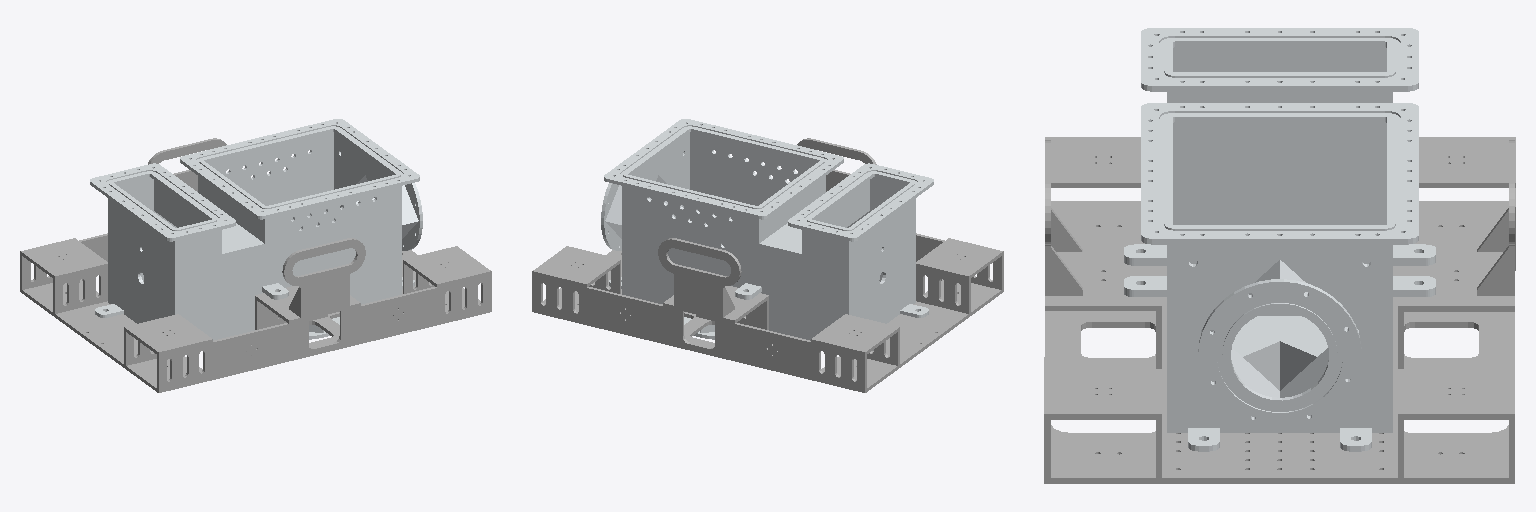
URDF robot description (Sauvc 25):
<?xml version="1.0" encoding="utf-8"?>
<!-- This URDF was automatically created by SolidWorks to URDF Exporter! Originally created by [author] ([email redacted]) 
     Commit Version: 1.6.0-4-g7f85cfe  Build Version: 1.6.7995.38578
     For more information, please see http://wiki.ros.org/sw_urdf_exporter -->
<robot
  name="Sauvc 25">
  <link
    name="chassis_link">
    <inertial>
      <origin
        xyz="0.096007 0.10167 0.10982"
        rpy="0 0 0" />
      <mass
        value="6.0362" />
      <inertia
        ixx="0.04236"
        ixy="-2.5021E-09"
        ixz="-1.3686E-05"
        iyy="0.18568"
        iyz="1.879E-05"
        izz="0.14514" />
    </inertial>
    <visual>
      <origin
        xyz="0 0 0"
        rpy="0 0 0" />
      <geometry>
        <mesh
          filename="package://ags_description/meshes/chassis_link.STL" />
      </geometry>
      <material
        name="">
        <color
          rgba="0.75294 0.75294 0.75294 1" />
      </material>
    </visual>
    <collision>
      <origin
        xyz="0 0 0"
        rpy="0 0 0" />
      <geometry>
        <mesh
          filename="package://ags_description/meshes/chassis_link.STL" />
      </geometry>
    </collision>
  </link>
  <link
    name="hull_link">
    <inertial>
      <origin
        xyz="0.0075921 0.089964 1.0578E-05"
        rpy="0 0 0" />
      <mass
        value="15" />
      <inertia
        ixx="0.03422"
        ixy="-0.0010072"
        ixz="2.3337E-05"
        iyy="0.085969"
        iyz="-2.3338E-05"
        izz="0.077582" />
    </inertial>
    <visual>
      <origin
        xyz="0 0 0"
        rpy="0 0 0" />
      <geometry>
        <mesh
          filename="package://ags_description/meshes/hull_link.STL" />
      </geometry>
      <material
        name="">
        <color
          rgba="0.89804 0.91765 0.92941 1" />
      </material>
    </visual>
    <collision>
      <origin
        xyz="0 0 0"
        rpy="0 0 0" />
      <geometry>
        <mesh
          filename="package://ags_description/meshes/hull_link.STL" />
      </geometry>
    </collision>
  </link>
  <joint
    name="hull_joint"
    type="fixed">
    <origin
      xyz="0.095605167680179 -0.114810636913522 0.0727763991682185"
      rpy="1.5707963267949 0 0" />
    <parent
      link="chassis_link" />
    <child
      link="hull_link" />
    <axis
      xyz="0 0 0" />
  </joint>
  <link
    name="t1_link">
    <inertial>
      <origin
        xyz="-4.1153E-07 -0.00055898 -0.0039322"
        rpy="0 0 0" />
      <mass
        value="0.226" />
      <inertia
        ixx="0.00013148"
        ixy="1.6857E-09"
        ixz="-1.9632E-09"
        iyy="0.00012745"
        iyz="-1.4772E-07"
        izz="0.00018193" />
    </inertial>
    <visual>
      <origin
        xyz="0 0 0"
        rpy="0 0 0" />
      <geometry>
        <mesh
          filename="package://ags_description/meshes/t1_link.STL" />
      </geometry>
      <material
        name="">
        <color
          rgba="0.95686 0.95686 0.95686 1" />
      </material>
    </visual>
    <collision>
      <origin
        xyz="0 0 0"
        rpy="0 0 0" />
      <geometry>
        <mesh
          filename="package://ags_description/meshes/t1_link.STL" />
      </geometry>
    </collision>
  </link>
  <joint
    name="t1_joint"
    type="fixed">
    <origin
      xyz="0.349878584893384 0.0539678164692632 0.187776399168219"
      rpy="1.5707963267949 0 0.785531324064394" />
    <parent
      link="chassis_link" />
    <child
      link="t1_link" />
    <axis
      xyz="0 0 0" />
  </joint>
  <link
    name="t2_link">
    <inertial>
      <origin
        xyz="-4.1146E-07 -0.00055898 -0.0039322"
        rpy="0 0 0" />
      <mass
        value="0.226" />
      <inertia
        ixx="0.00013149"
        ixy="1.6856E-09"
        ixz="-1.9616E-09"
        iyy="0.00012745"
        iyz="-1.4772E-07"
        izz="0.00018193" />
    </inertial>
    <visual>
      <origin
        xyz="0 0 0"
        rpy="0 0 0" />
      <geometry>
        <mesh
          filename="package://ags_description/meshes/t2_link.STL" />
      </geometry>
      <material
        name="">
        <color
          rgba="0.95686 0.95686 0.95686 1" />
      </material>
    </visual>
    <collision>
      <origin
        xyz="0 0 0"
        rpy="0 0 0" />
      <geometry>
        <mesh
          filename="package://ags_description/meshes/t2_link.STL" />
      </geometry>
    </collision>
  </link>
  <joint
    name="t2_joint"
    type="fixed">
    <origin
      xyz="0.349878584893391 -0.283589090296312 0.187776399168219"
      rpy="1.5707963267949 0 2.3560613295254" />
    <parent
      link="chassis_link" />
    <child
      link="t2_link" />
    <axis
      xyz="0 0 0" />
  </joint>
  <link
    name="t3_link">
    <inertial>
      <origin
        xyz="-4.1146E-07 -0.00055898 -0.0039322"
        rpy="0 0 0" />
      <mass
        value="0.226" />
      <inertia
        ixx="0.00013148"
        ixy="1.6857E-09"
        ixz="-1.9652E-09"
        iyy="0.00012745"
        iyz="-1.4772E-07"
        izz="0.00018193" />
    </inertial>
    <visual>
      <origin
        xyz="0 0 0"
        rpy="0 0 0" />
      <geometry>
        <mesh
          filename="package://ags_description/meshes/t3_link.STL" />
      </geometry>
      <material
        name="">
        <color
          rgba="0.95686 0.95686 0.95686 1" />
      </material>
    </visual>
    <collision>
      <origin
        xyz="0 0 0"
        rpy="0 0 0" />
      <geometry>
        <mesh
          filename="package://ags_description/meshes/t3_link.STL" />
      </geometry>
    </collision>
  </link>
  <joint
    name="t3_joint"
    type="fixed">
    <origin
      xyz="-0.154694276907376 -0.283521901037111 0.187776399168219"
      rpy="1.5707963267949 0 -2.35632765085928" />
    <parent
      link="chassis_link" />
    <child
      link="t3_link" />
    <axis
      xyz="0 0 0" />
  </joint>
  <link
    name="t4_link">
    <inertial>
      <origin
        xyz="-4.1151E-07 -0.00055898 -0.0039322"
        rpy="0 0 0" />
      <mass
        value="0.226" />
      <inertia
        ixx="0.00013148"
        ixy="1.6856E-09"
        ixz="-1.9659E-09"
        iyy="0.00012745"
        iyz="-1.4772E-07"
        izz="0.00018193" />
    </inertial>
    <visual>
      <origin
        xyz="0 0 0"
        rpy="0 0 0" />
      <geometry>
        <mesh
          filename="package://ags_description/meshes/t4_link.STL" />
      </geometry>
      <material
        name="">
        <color
          rgba="0.95686 0.95686 0.95686 1" />
      </material>
    </visual>
    <collision>
      <origin
        xyz="0 0 0"
        rpy="0 0 0" />
      <geometry>
        <mesh
          filename="package://ags_description/meshes/t4_link.STL" />
      </geometry>
    </collision>
  </link>
  <joint
    name="t4_joint"
    type="fixed">
    <origin
      xyz="-0.154604378302771 0.0540349937575058 0.187776399168219"
      rpy="1.5707963267949 0 -0.785797645398278" />
    <parent
      link="chassis_link" />
    <child
      link="t4_link" />
    <axis
      xyz="0 0 0" />
  </joint>
  <link name="t5_link">
    <inertial>
      <origin xyz="-4.0893E-07 -0.00055898 -0.0039314" rpy="0 0 0" />
      <mass value="0.226" />
      <inertia
        ixx="0.00013148"
        ixy="1.9698E-09"
        ixz="-1.9744E-09"
        iyy="0.00012745"
        iyz="-1.4787E-07"
        izz="0.00018192" />
    </inertial>
    <visual>
      <origin xyz="0 0 0" rpy="0 0 0" />
      <geometry>
        <mesh filename="package://ags_description/meshes/t5_link.STL" />
      </geometry>
      <material name="">
        <color rgba="0.95686 0.95686 0.95686 1" />
      </material>
    </visual>
    <collision>
      <origin
        xyz="0 0 0"
        rpy="0 0 0" />
      <geometry>
        <mesh
          filename="package://ags_description/meshes/t5_link.STL" />
      </geometry>
    </collision>
  </link>
  <joint
    name="t5_joint"
    type="fixed">
    <origin
      xyz="0.23263659031711 0.05014009154751 0.097524622545968"
      rpy="0 0 3.14145949292285" />
    <parent
      link="chassis_link" />
    <child
      link="t5_link" />
    <axis
      xyz="0 0 0" />
  </joint>
  <link
    name="t6_link">
    <inertial>
      <origin
        xyz="-4.0893E-07 -0.00055898 -0.0039314"
        rpy="0 0 0" />
      <mass
        value="0.226" />
      <inertia
        ixx="0.00013148"
        ixy="1.9698E-09"
        ixz="-1.9714E-09"
        iyy="0.00012745"
        iyz="-1.4787E-07"
        izz="0.00018192" />
    </inertial>
    <visual>
      <origin
        xyz="0 0 0"
        rpy="0 0 0" />
      <geometry>
        <mesh
          filename="package://ags_description/meshes/t6_link.STL" />
      </geometry>
      <material
        name="">
        <color
          rgba="0.95686 0.95686 0.95686 1" />
      </material>
    </visual>
    <collision>
      <origin
        xyz="0 0 0"
        rpy="0 0 0" />
      <geometry>
        <mesh
          filename="package://ags_description/meshes/t6_link.STL" />
      </geometry>
    </collision>
  </link>
  <joint
    name="t6_joint"
    type="fixed">
    <origin
      xyz="0.23259264729715 -0.279859905526749 0.0975246225459646"
      rpy="0 0 -0.000133160666942421" />
    <parent
      link="chassis_link" />
    <child
      link="t6_link" />
    <axis
      xyz="0 0 0" />
  </joint>
  <link
    name="t7_link">
    <inertial>
      <origin
        xyz="-4.089E-07 -0.00055898 -0.0039314"
        rpy="0 0 0" />
      <mass
        value="0.226" />
      <inertia
        ixx="0.00013148"
        ixy="1.9698E-09"
        ixz="-1.9708E-09"
        iyy="0.00012745"
        iyz="-1.4787E-07"
        izz="0.00018192" />
    </inertial>
    <visual>
      <origin
        xyz="0 0 0"
        rpy="0 0 0" />
      <geometry>
        <mesh
          filename="package://ags_description/meshes/t7_link.STL" />
      </geometry>
      <material
        name="">
        <color
          rgba="0.95686 0.95686 0.95686 1" />
      </material>
    </visual>
    <collision>
      <origin
        xyz="0 0 0"
        rpy="0 0 0" />
      <geometry>
        <mesh
          filename="package://ags_description/meshes/t7_link.STL" />
      </geometry>
    </collision>
  </link>
  <joint
    name="t7_joint"
    type="fixed">
    <origin
      xyz="-0.0374073503090634 -0.279823952146783 0.0975246225459653"
      rpy="0 0 -0.000133160666942421" />
    <parent
      link="chassis_link" />
    <child
      link="t7_link" />
    <axis
      xyz="0 0 0" />
  </joint>
  <link
    name="t8_link">
    <inertial>
      <origin
        xyz="-4.0891E-07 -0.00055898 -0.0039314"
        rpy="0 0 0" />
      <mass
        value="0.226" />
      <inertia
        ixx="0.00013148"
        ixy="1.9698E-09"
        ixz="-1.9745E-09"
        iyy="0.00012745"
        iyz="-1.4787E-07"
        izz="0.00018192" />
    </inertial>
    <visual>
      <origin
        xyz="0 0 0"
        rpy="0 0 0" />
      <geometry>
        <mesh
          filename="package://ags_description/meshes/t8_link.STL" />
      </geometry>
      <material
        name="">
        <color
          rgba="0.95686 0.95686 0.95686 1" />
      </material>
    </visual>
    <collision>
      <origin
        xyz="0 0 0"
        rpy="0 0 0" />
      <geometry>
        <mesh
          filename="package://ags_description/meshes/t8_link.STL" />
      </geometry>
    </collision>
  </link>
  <joint
    name="t8_joint"
    type="fixed">
    <origin
      xyz="-0.0373634072891034 0.0501760449274767 0.0975246225459679"
      rpy="0 0 3.14145949292285" />
    <parent
      link="chassis_link" />
    <child
      link="t8_link" />
    <axis
      xyz="0 0 0" />
  </joint>
</robot>

--- What the picture shows (computed from the rendered views, not written in the file) ---
Views: 3 orthographic renders of the robot side by side, from view 1: azimuth 30°, elevation 25°; view 2: azimuth 150°, elevation 25°; view 3: azimuth 270°, elevation 25°.
Model Sauvc 25 with 10 links and 9 joints (9 fixed), rooted at chassis_link, posed all joints at 0.
Visible links, largest first — view 1: hull_link, chassis_link; view 2: hull_link, chassis_link; view 3: hull_link, chassis_link.
Link boxes in pixels (x1,y1,x2,y2): hull_link: (90,119,422,350); chassis_link: (20,138,491,392); hull_link: (601,119,933,350); chassis_link: (532,138,1003,392); hull_link: (1124,28,1435,451); chassis_link: (1044,137,1515,483).
Size in the robot's own frame: 0.6121 by 0.4401 by 0.268 metres.
2 mesh visuals loaded from 10 distinct referenced files (2 binary STL); not drawn: 8 (reference not matched to a file when rendering).